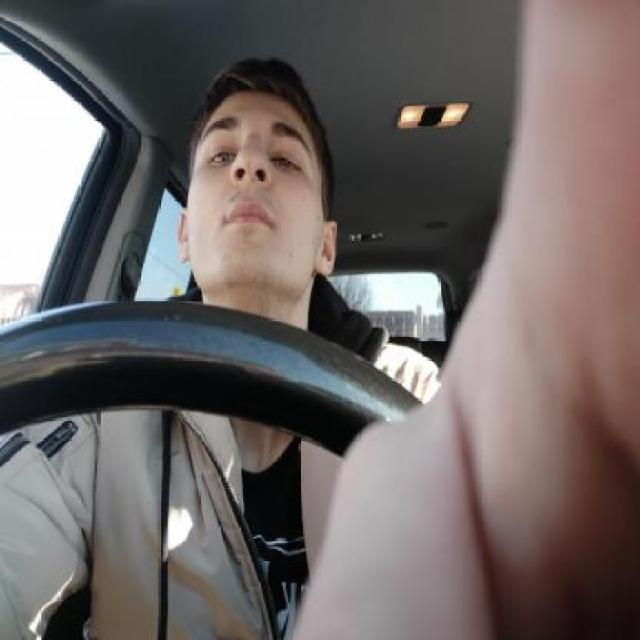awake: (270, 152, 302, 172), (209, 146, 236, 166)
